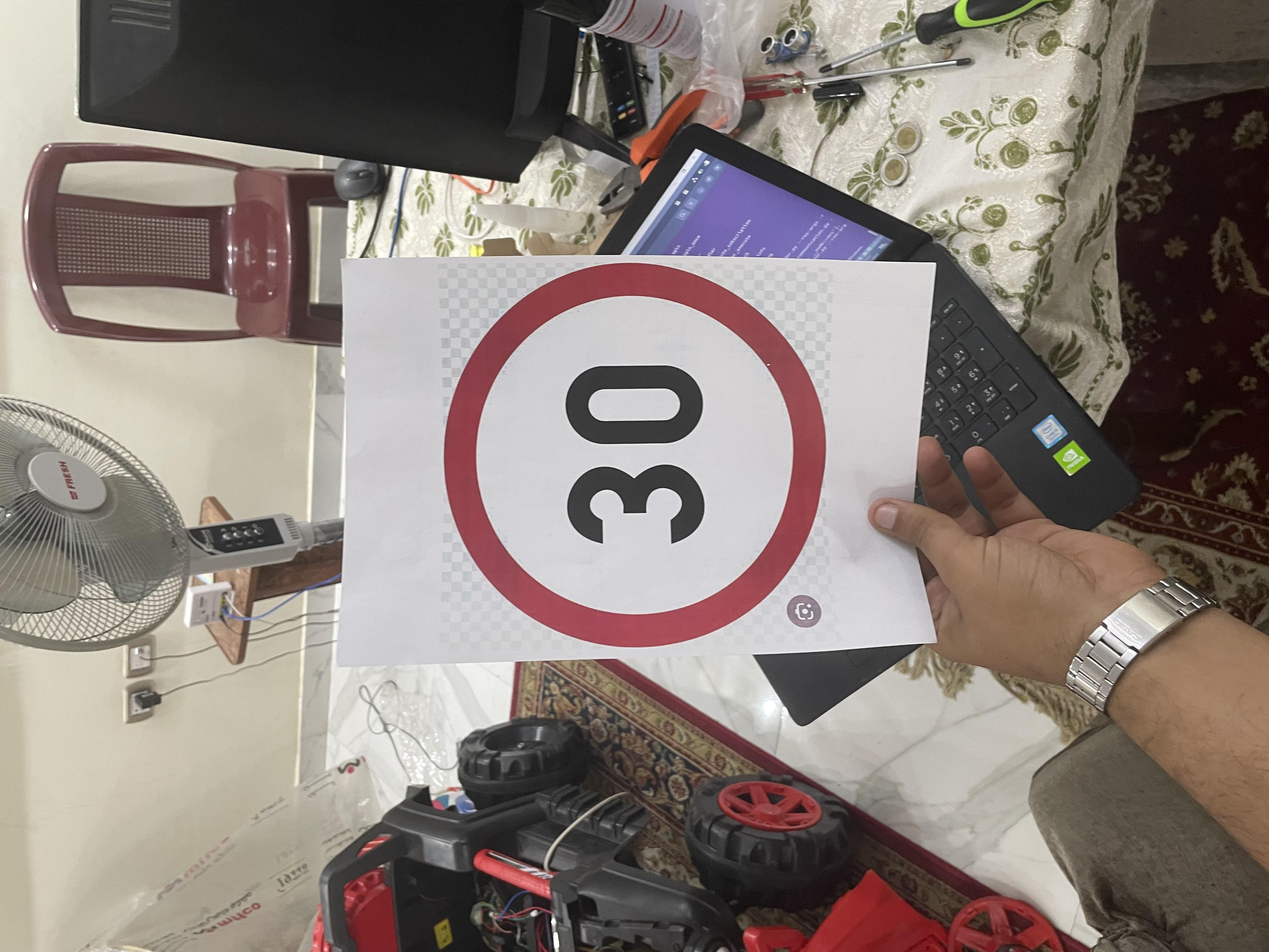30-speed: (405, 324, 932, 625)
